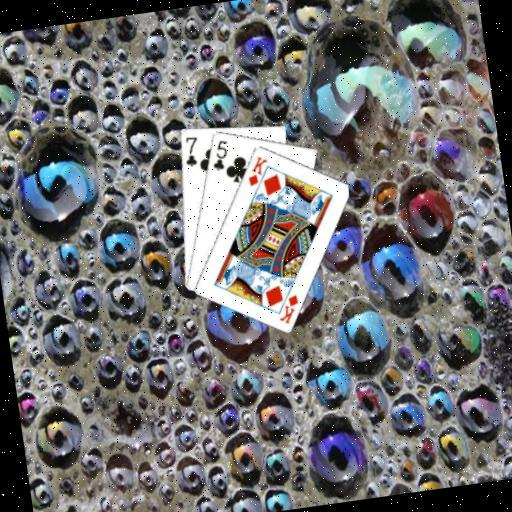5C: (207, 136, 233, 173)
7C: (179, 132, 202, 168)
KD: (242, 152, 273, 189), (273, 290, 303, 326)
